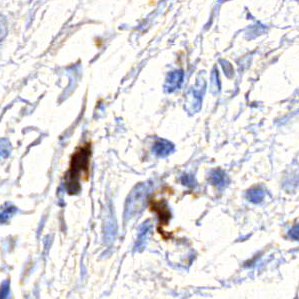Lymphocyte: (61, 141, 93, 197)
